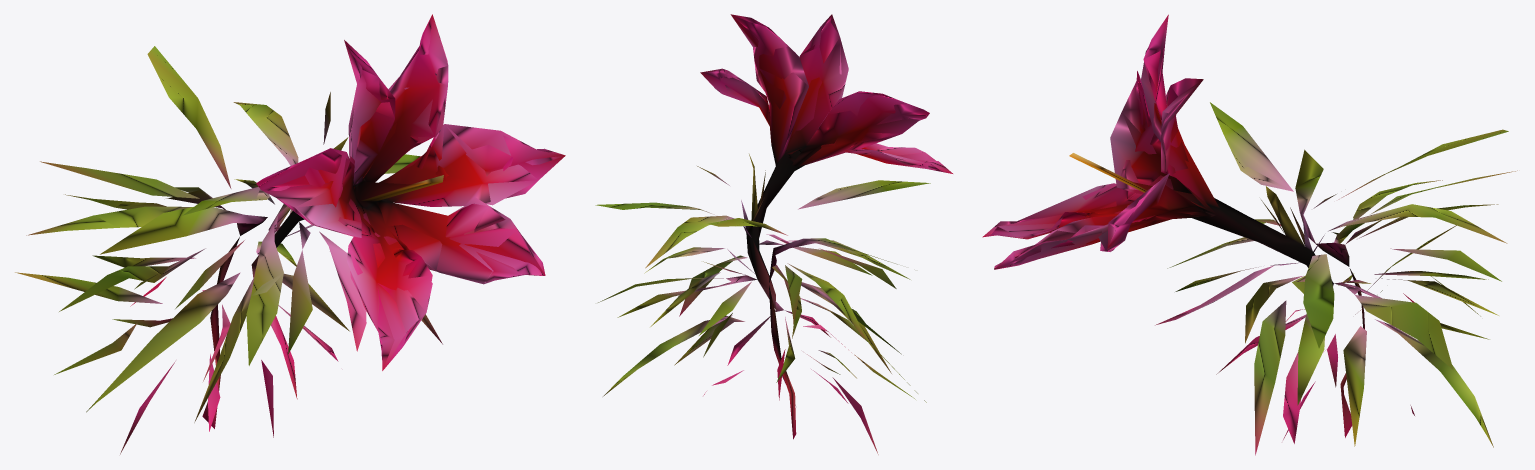
Rendered from field_flower_2.glb.
3 views of the same model, side by side, from view 1: azimuth 30°, elevation 25°; view 2: azimuth 150°, elevation 25°; view 3: azimuth 270°, elevation 25° (orthographic). The views are drawn at different scales.
Size of the model in its own units: 1.57 by 1.61 by 1.77.
